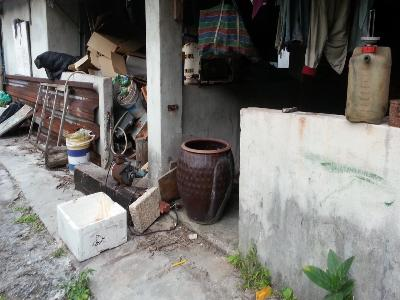bowl: (176, 137, 235, 226)
bucket: (344, 45, 392, 125), (115, 79, 146, 119), (65, 132, 93, 176)
styrofoam: (57, 189, 129, 261)
